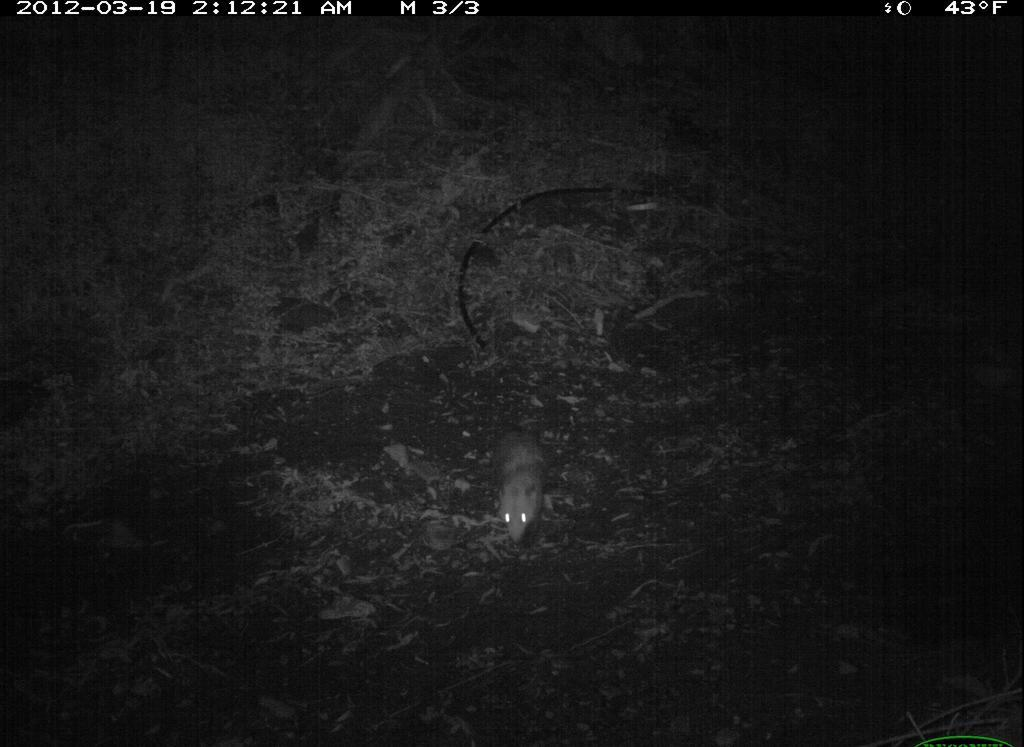opossum: (479, 405, 561, 548)
